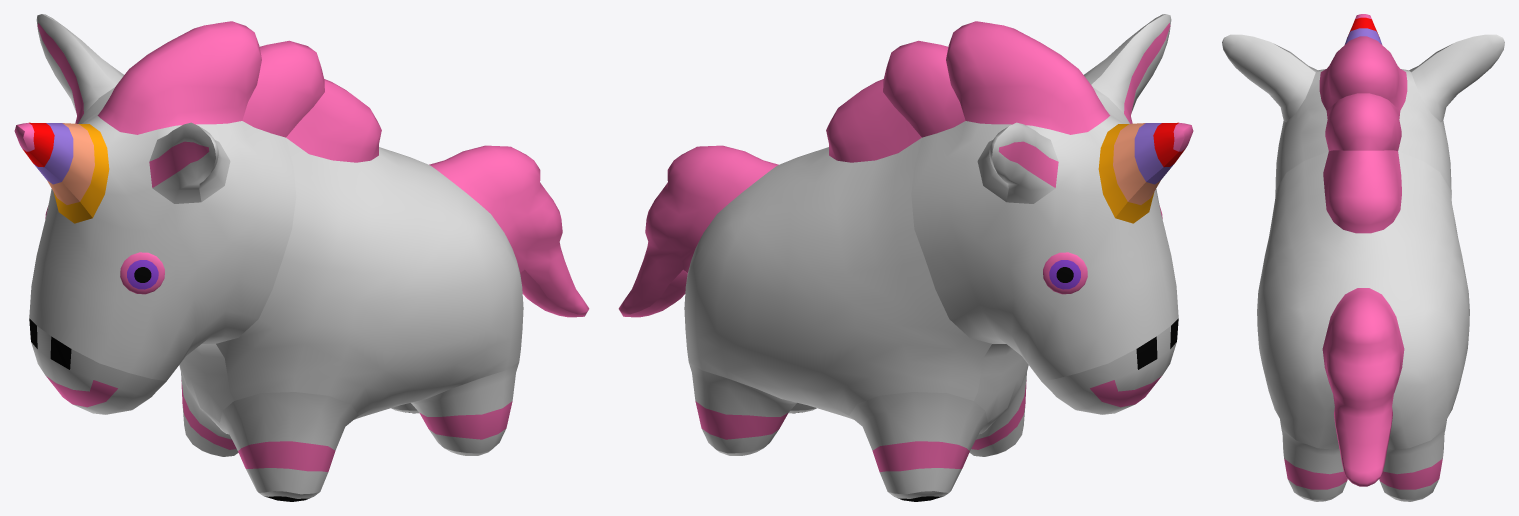
The model's file is unicorn.gltf.
The picture shows the model from 3 angles, left to right: view 1: azimuth 30°, elevation 25°; view 2: azimuth 150°, elevation 25°; view 3: azimuth 270°, elevation 25°; orthographic projection. The views are drawn at different scales.
Parts seen in each view (by area): view 1: Plush Unicorn; view 2: Plush Unicorn; view 3: Plush Unicorn.
Boxes of the visible parts, box(x1,y1,x2,y2) form: Plush Unicorn: box(14, 14, 589, 501); Plush Unicorn: box(618, 14, 1193, 501); Plush Unicorn: box(1222, 14, 1504, 501).
Bounding box in the file's own units: 42.33 × 32.62 × 23.04.
